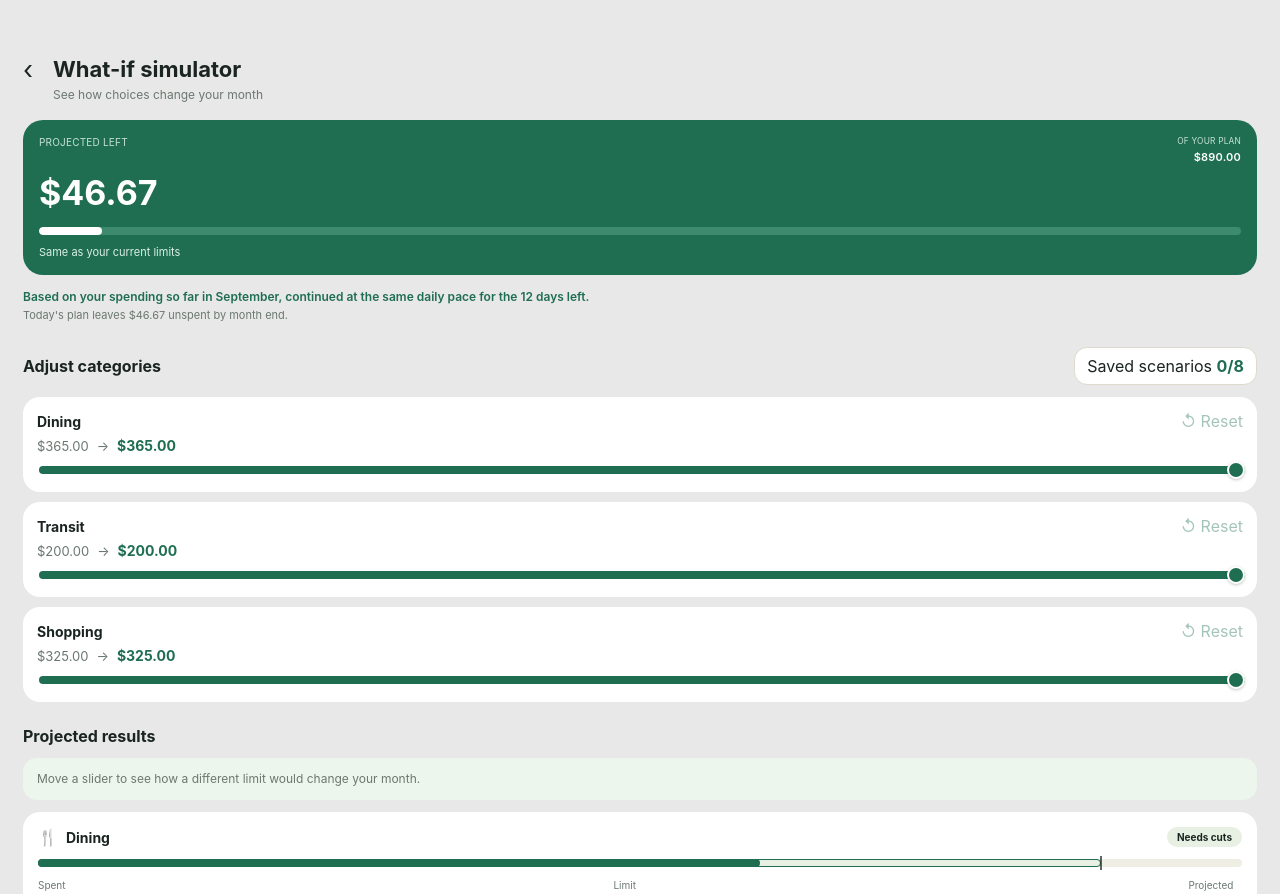
Test: What-if simulator › updates the projection and a plain-language summary as a limit changes
Set the slider named "Dining scenario limit" to "30000" at {"x": 1022, "y": 470}, box [39,466,1245,474]
(page scrolled)
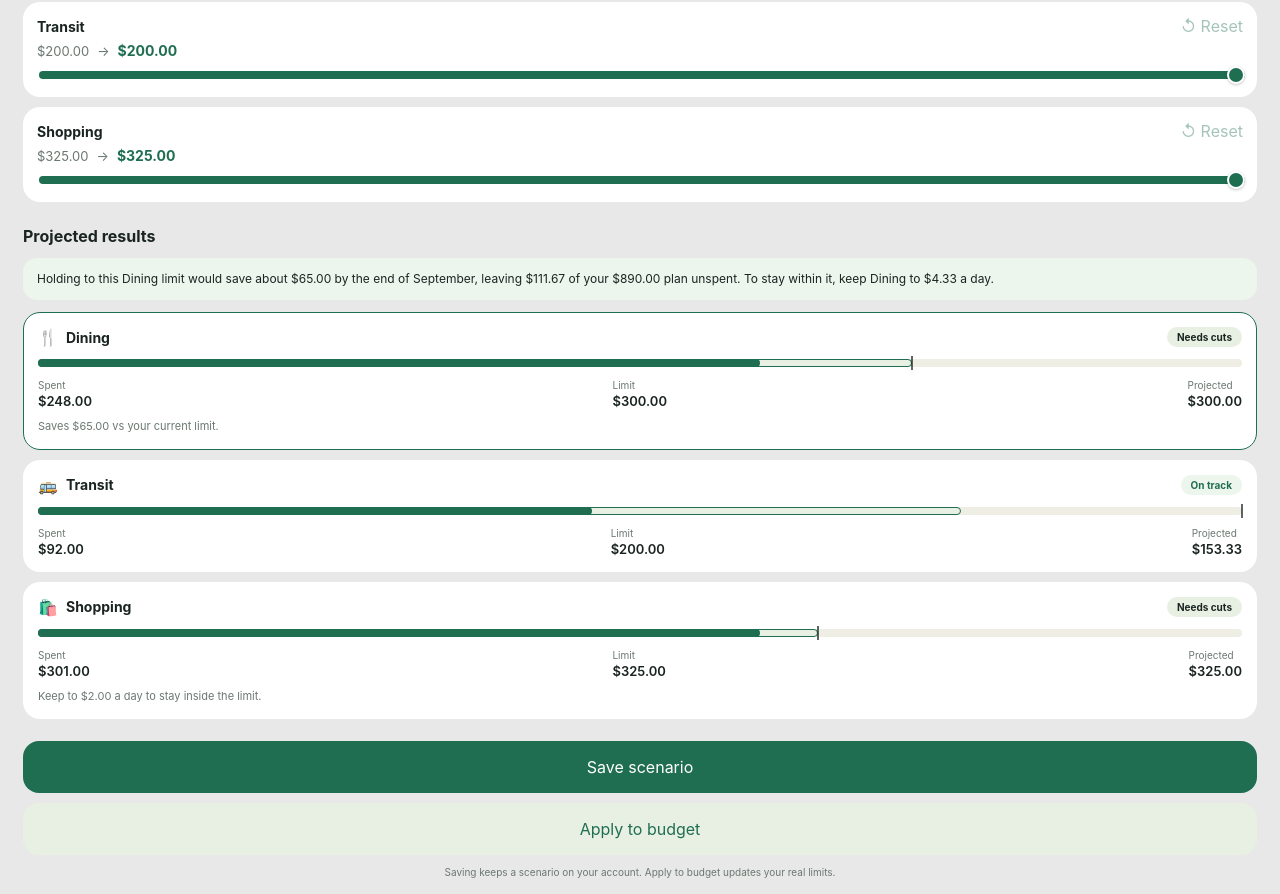
Now the text "Holding to this Dining limit would save about $65.00 by the end of September" is shown, box [37,271,994,286]
Now the text "Saves $65.00 vs your current limit." is shown, box [38,419,219,433]
Now the button "Apply to budget" is enabled, box [23,803,1257,855]
